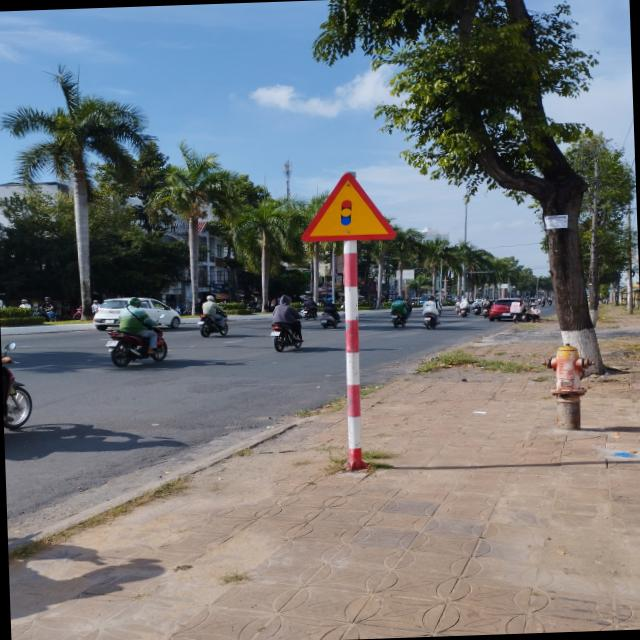Duong_Co_Go_Giam_Toc: (298, 171, 396, 242)
